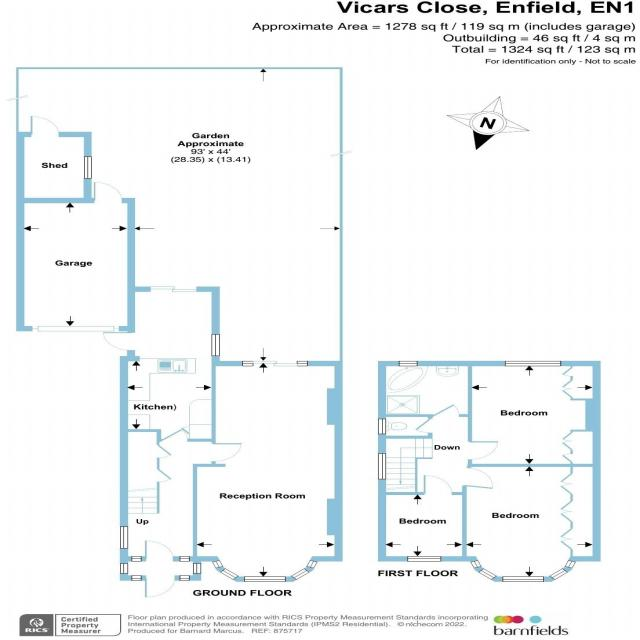DOOR: (461, 467, 496, 490), (144, 575, 177, 598), (422, 474, 454, 496), (101, 332, 136, 352), (144, 540, 174, 562), (467, 441, 500, 461), (210, 443, 243, 462), (432, 403, 462, 418), (161, 428, 188, 442), (413, 417, 433, 434)
ROOM: (192, 361, 343, 582), (102, 286, 220, 442), (461, 463, 601, 582), (467, 361, 601, 467), (377, 473, 467, 562)
WINDOW: (504, 360, 562, 367), (477, 567, 499, 581), (377, 453, 387, 480), (549, 568, 569, 581), (502, 576, 545, 582), (210, 334, 221, 357), (244, 576, 286, 582), (219, 568, 239, 580), (290, 568, 310, 580), (406, 556, 442, 562), (120, 526, 129, 549), (377, 418, 387, 435), (468, 559, 483, 569), (398, 360, 418, 367), (564, 559, 577, 569), (211, 560, 224, 569), (192, 563, 202, 574), (306, 560, 318, 569), (120, 563, 128, 574), (242, 361, 253, 367), (131, 556, 142, 562), (131, 575, 142, 581), (296, 361, 308, 366), (180, 556, 190, 562), (180, 575, 190, 581)
